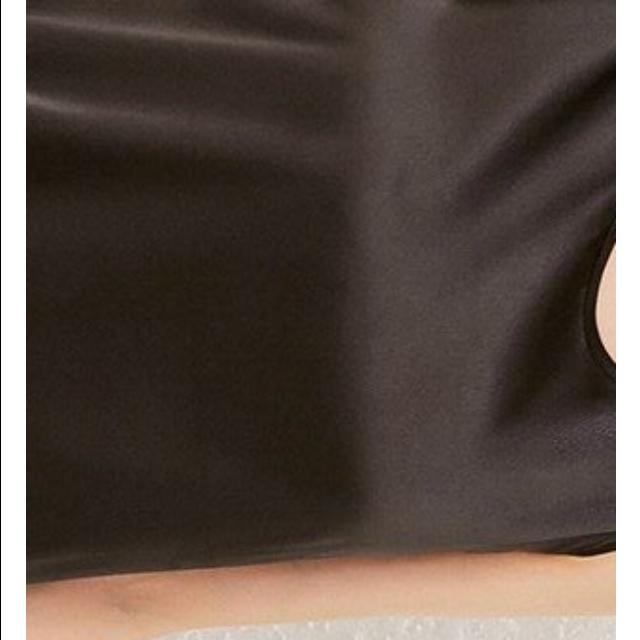silk: (25, 1, 615, 566)
